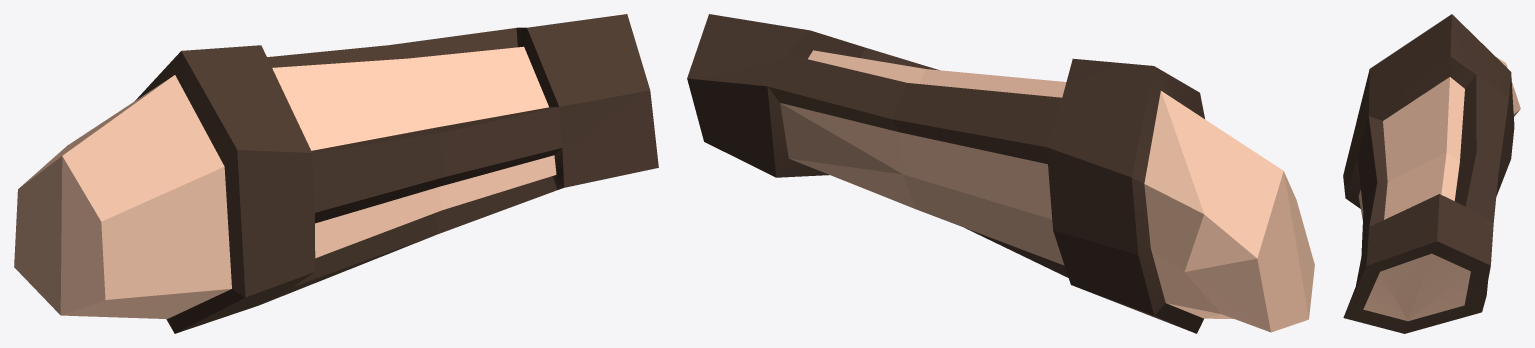
File: Chr_ArmLowerLeft_Female_09_Static.fbx
3 renders of one model, left to right at view 1: azimuth 30°, elevation 25°; view 2: azimuth 150°, elevation 25°; view 3: azimuth 270°, elevation 25°, orthographic. The views are drawn at different scales.
Parts seen in each view (by area): view 1: Chr_ArmLowerLeft_Female_09_Static; view 2: Chr_ArmLowerLeft_Female_09_Static; view 3: Chr_ArmLowerLeft_Female_09_Static.
Boxes of the visible parts, left/top/right/bottom form: Chr_ArmLowerLeft_Female_09_Static: left=14, top=14, right=658, bottom=333; Chr_ArmLowerLeft_Female_09_Static: left=687, top=14, right=1314, bottom=333; Chr_ArmLowerLeft_Female_09_Static: left=1343, top=14, right=1520, bottom=333.
Size of the model in its own units: 0.292 by 0.128 by 0.0948.
